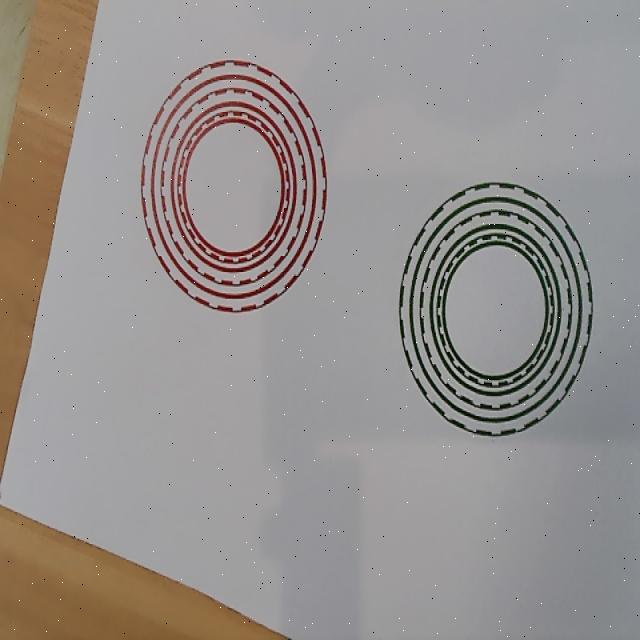g: (398, 181, 594, 439)
red-green-blue: (140, 60, 328, 314)
